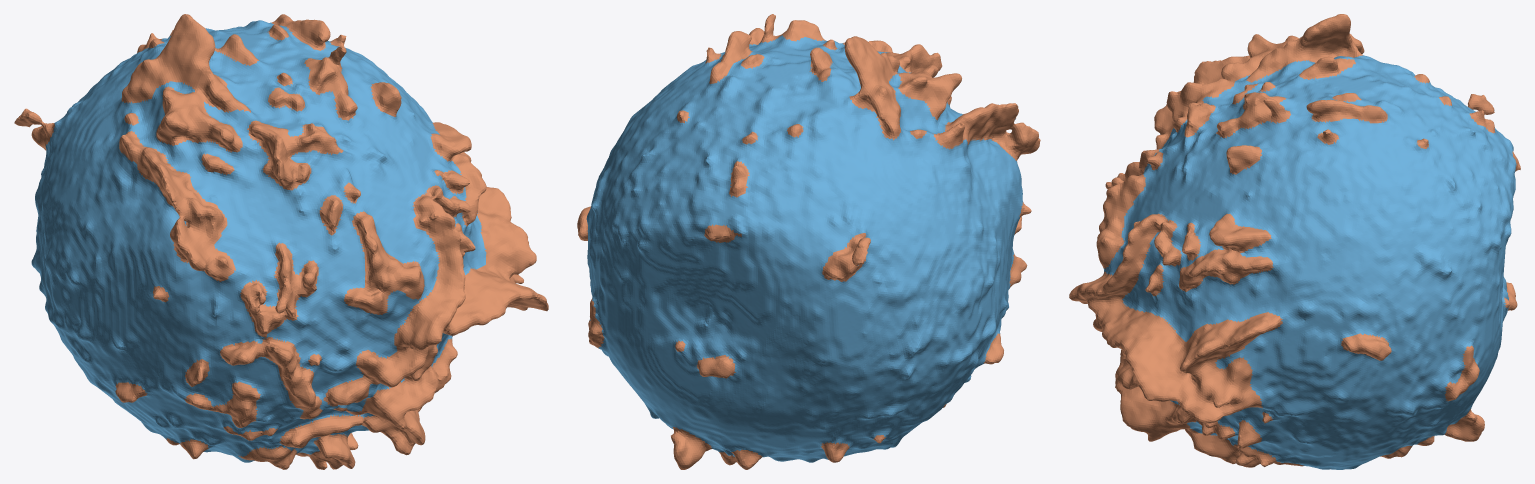
3 views of the same model, side by side, from view 1: azimuth 30°, elevation 25°; view 2: azimuth 150°, elevation 25°; view 3: azimuth 270°, elevation 25° (orthographic). The views are drawn at different scales.
Bounding box in the file's own units: 155 × 162 × 160.
